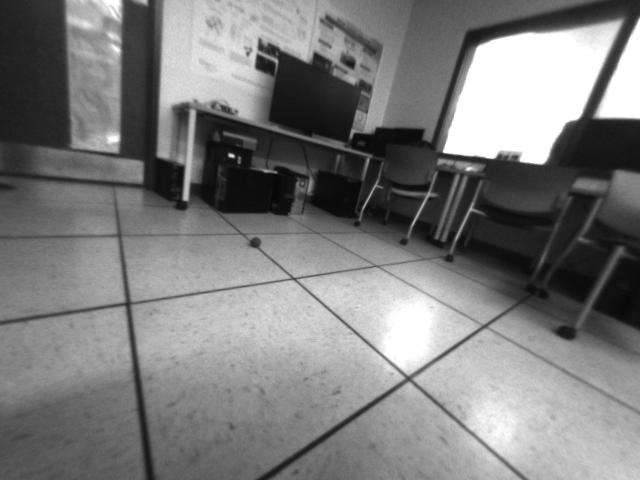dogtoy: (242, 229, 268, 251)
